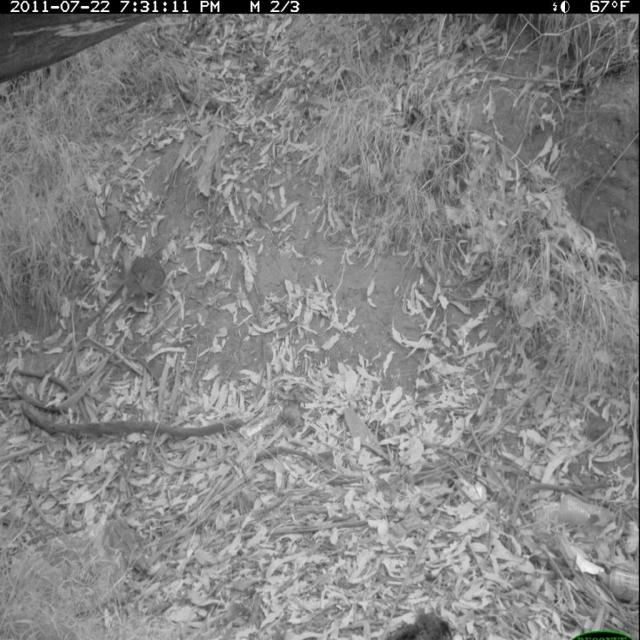rabbit: (114, 238, 170, 314)
